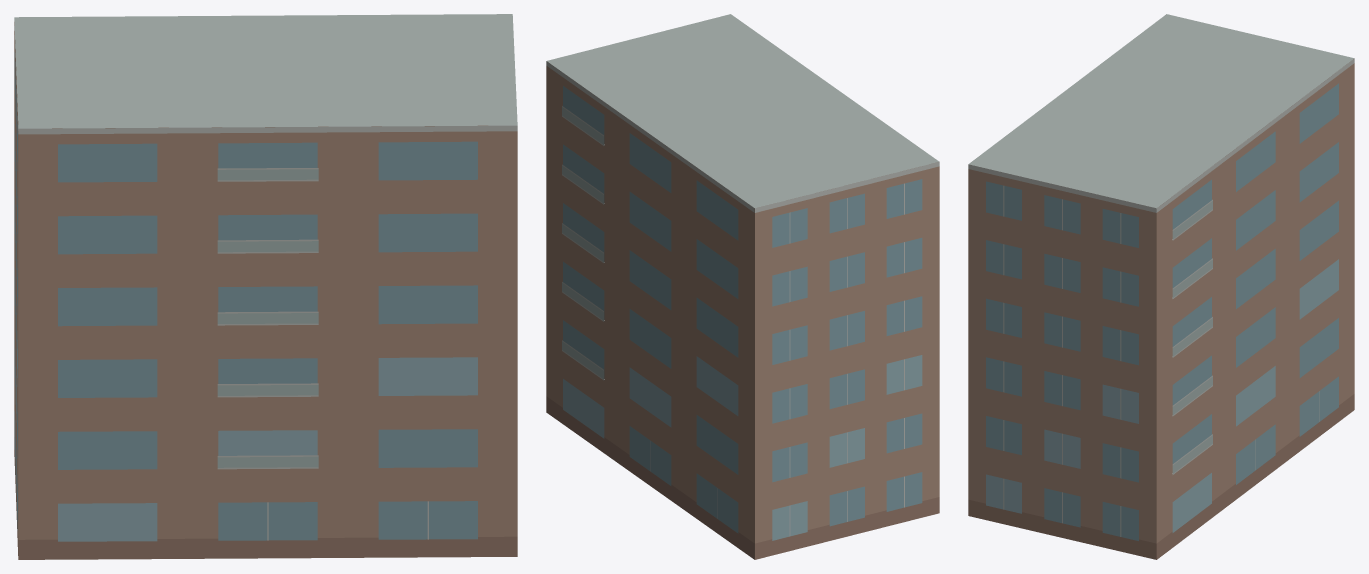
Rendered from survey-upis-33002821.glb.
The picture shows the model from 3 angles, left to right: view 1: azimuth 30°, elevation 25°; view 2: azimuth 150°, elevation 25°; view 3: azimuth 270°, elevation 25°; orthographic projection. The views are drawn at different scales.
Parts seen in each view (by area): view 1: survey-upis-33002821.tmp; view 2: survey-upis-33002821.tmp; view 3: survey-upis-33002821.tmp.
Boxes of the visible parts, bbox=[...] form: survey-upis-33002821.tmp: bbox=[14, 14, 517, 559]; survey-upis-33002821.tmp: bbox=[546, 14, 939, 559]; survey-upis-33002821.tmp: bbox=[968, 14, 1354, 559].
Size of the model in its own units: 21.69 by 18.3 by 18.23.
